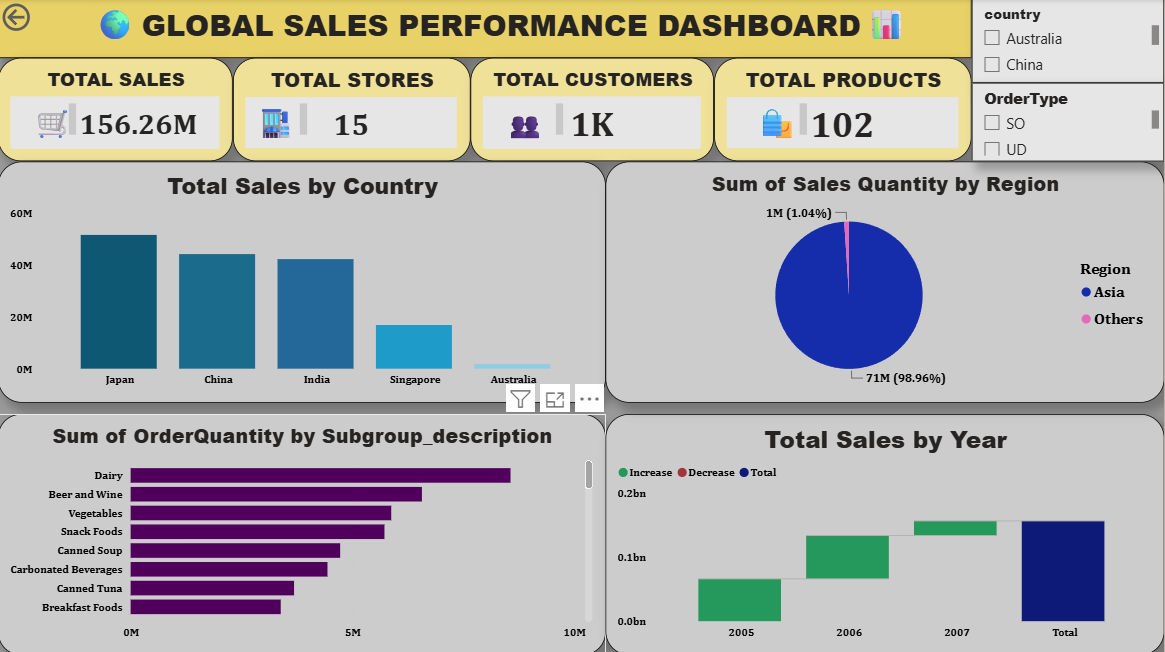

This screenshot's page, from the dashboard's own definition file:
{"tool":"powerbi","page":{"name":"Page 1","canvas":[1280,720],"ordinal":0},"visuals":[{"type":"textbox","box":[0,0,1069,64.5],"z":0},{"type":"textbox","box":[101.5,0,54.9,54.9],"z":1000},{"type":"textbox","box":[948.2,0,53.5,54.9],"z":2000},{"type":"cardVisual","title":"TOTAL SALES","fields":{"Data":["Sales.Total Sales"]},"box":[0,64.5,258,113.9],"z":3000},{"type":"textbox","box":[32.9,109.8,57.6,48],"z":4000},{"type":"cardVisual","title":"TOTAL STORES","fields":{"Data":["Store.TOTAL STORES"]},"box":[258,64.5,260.7,113.9],"z":5000},{"type":"textbox","box":[278.6,109.8,65.9,48],"z":6000},{"type":"cardVisual","title":"TOTAL CUSTOMERS","fields":{"Data":["Customer.Total Customers"]},"box":[518.7,64.5,267.6,113.9],"z":7000},{"type":"textbox","box":[551.6,109.8,74.1,48],"z":8000},{"type":"cardVisual","title":"TOTAL PRODUCTS","fields":{"Data":["Item.TOTAL PRODUCTS"]},"box":[786.3,64.5,282.7,113.9],"z":9000},{"type":"textbox","box":[828.8,109.8,64.5,48],"z":10000},{"type":"clusteredColumnChart","fields":{"Y":["Sales.Total Sales"],"Category":["Customer.Country"]},"box":[0,178.4,666.9,264.8],"z":11000},{"type":"clusteredBarChart","title":"Sum of OrderQuantity by Subgroup_description","fields":{"Category":["Item.Subgroup.subgroup_desc"],"Y":["Sum(Sales.OrderQuantity)"]},"box":[0,455.6,666.9,264.8],"z":12000},{"type":"waterfallChart","fields":{"Y":["Sales.Total Sales"],"Category":["Sales.InvoiceDate.Variation.Date Hierarchy.Year"]},"box":[666.9,455.6,613.4,264.8],"z":13000},{"type":"pieChart","title":"Sum of Sales Quantity by Region","fields":{"Y":["Sum(Sales.SalesQuantity)"],"Category":["Customer.Region"]},"box":[666.9,178.4,613.4,264.8],"z":14000},{"type":"slicer","fields":{"Values":["Customer.Country"]},"box":[1069,0,211.3,91.9],"z":15000},{"type":"slicer","fields":{"Values":["Sales.OrderType"]},"box":[1069,91.9,211.3,86.4],"z":16000},{"type":"actionButton","box":[0,0,100,40],"z":17000}]}

Visuals, with their boxes on the page's 1280x720 design canvas (x1, y1, x2, y2). These are canvas units, not pixel positions in the 1165x652 screenshot, which may show the page scaled, cropped or inside an application window:
textbox: [left=0, top=0, right=1069, bottom=64]
textbox: [left=102, top=0, right=156, bottom=55]
textbox: [left=948, top=0, right=1002, bottom=55]
"TOTAL SALES" cardVisual: [left=0, top=64, right=258, bottom=178]
textbox: [left=33, top=110, right=90, bottom=158]
"TOTAL STORES" cardVisual: [left=258, top=64, right=519, bottom=178]
textbox: [left=279, top=110, right=344, bottom=158]
"TOTAL CUSTOMERS" cardVisual: [left=519, top=64, right=786, bottom=178]
textbox: [left=552, top=110, right=626, bottom=158]
"TOTAL PRODUCTS" cardVisual: [left=786, top=64, right=1069, bottom=178]
textbox: [left=829, top=110, right=893, bottom=158]
clusteredColumnChart - Sales.Total Sales x Customer.Country: [left=0, top=178, right=667, bottom=443]
"Sum of OrderQuantity by Subgroup_description" clusteredBarChart: [left=0, top=456, right=667, bottom=720]
waterfallChart - Sales.Total Sales x Sales.InvoiceDate.Variation.Date Hierarchy.Year: [left=667, top=456, right=1280, bottom=720]
"Sum of Sales Quantity by Region" pieChart: [left=667, top=178, right=1280, bottom=443]
slicer - Customer.Country: [left=1069, top=0, right=1280, bottom=92]
slicer - Sales.OrderType: [left=1069, top=92, right=1280, bottom=178]
actionButton: [left=0, top=0, right=100, bottom=40]
